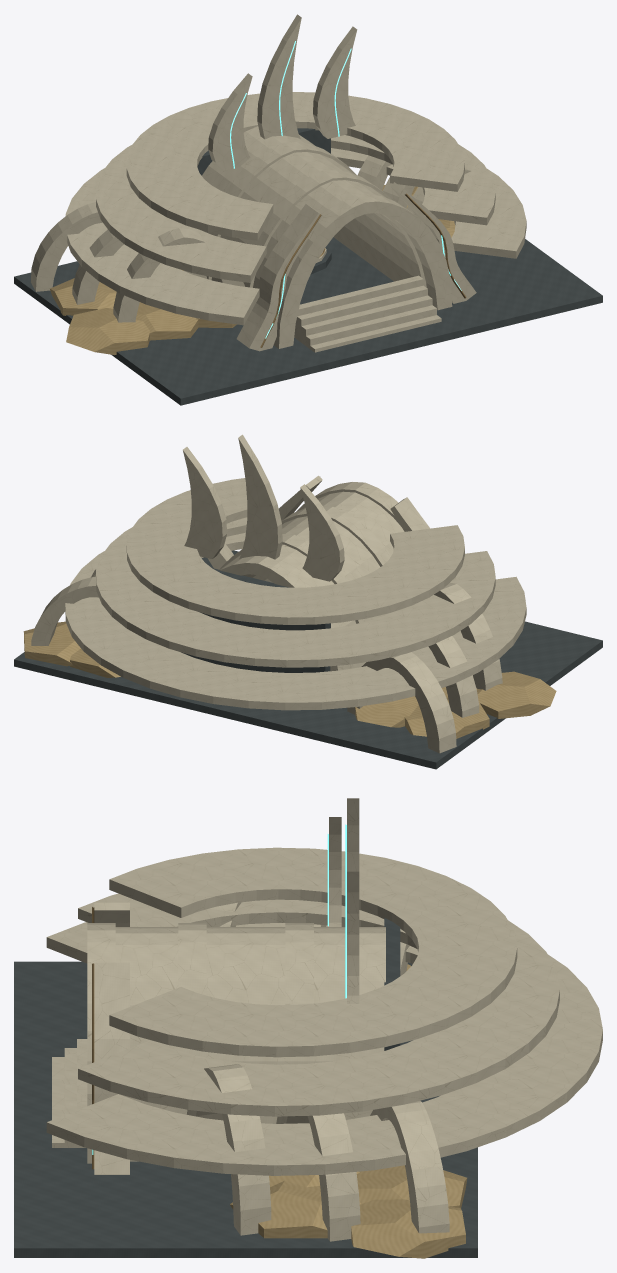
The model's file is temple-gateway.glb.
The picture shows the model from 3 angles, top to bottom: view 1: azimuth 30°, elevation 25°; view 2: azimuth 150°, elevation 25°; view 3: azimuth 270°, elevation 25°; orthographic projection. The views are drawn at different scales.
Parts seen in each view (by area): view 1: ceramic, basalt, sand, bronze, ACTIVE_CYAN; view 2: ceramic, basalt, sand; view 3: ceramic, basalt, sand.
Part boxes in pixels (x1=…): ceramic: x1=31, y1=14, x2=526, y2=352; basalt: x1=14, y1=128, x2=602, y2=405; sand: x1=50, y1=185, x2=455, y2=355; bronze: x1=260, y1=193, x2=466, y2=347; ACTIVE_CYAN: x1=230, y1=41, x2=461, y2=338; ceramic: x1=31, y1=434, x2=526, y2=753; basalt: x1=14, y1=550, x2=602, y2=769; sand: x1=23, y1=621, x2=556, y2=738; ceramic: x1=46, y1=798, x2=602, y2=1241; basalt: x1=14, y1=918, x2=477, y2=1257; sand: x1=230, y1=964, x2=467, y2=1258.
Bounding box in the file's own units: 42.48 × 20.8 × 33.
Materials: 5 (4 with a texture image).
